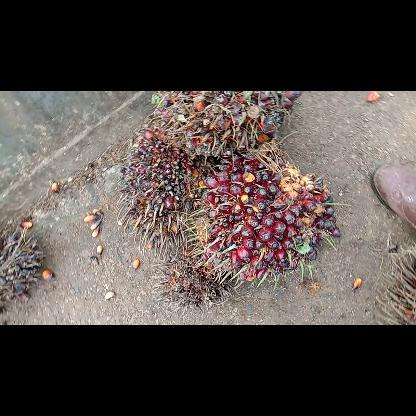TBS abnormal: (116, 136, 218, 256), (152, 246, 236, 312)
TBS masak: (184, 147, 342, 293), (146, 92, 304, 158)
